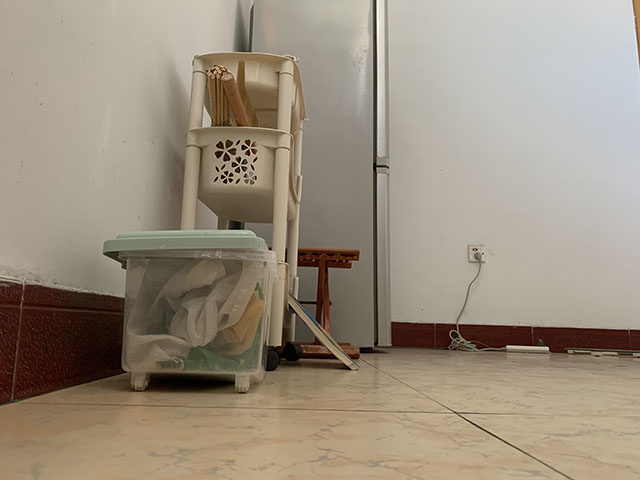book: (287, 291, 361, 372)
stool: (296, 247, 361, 359)
wire: (447, 252, 551, 354)
